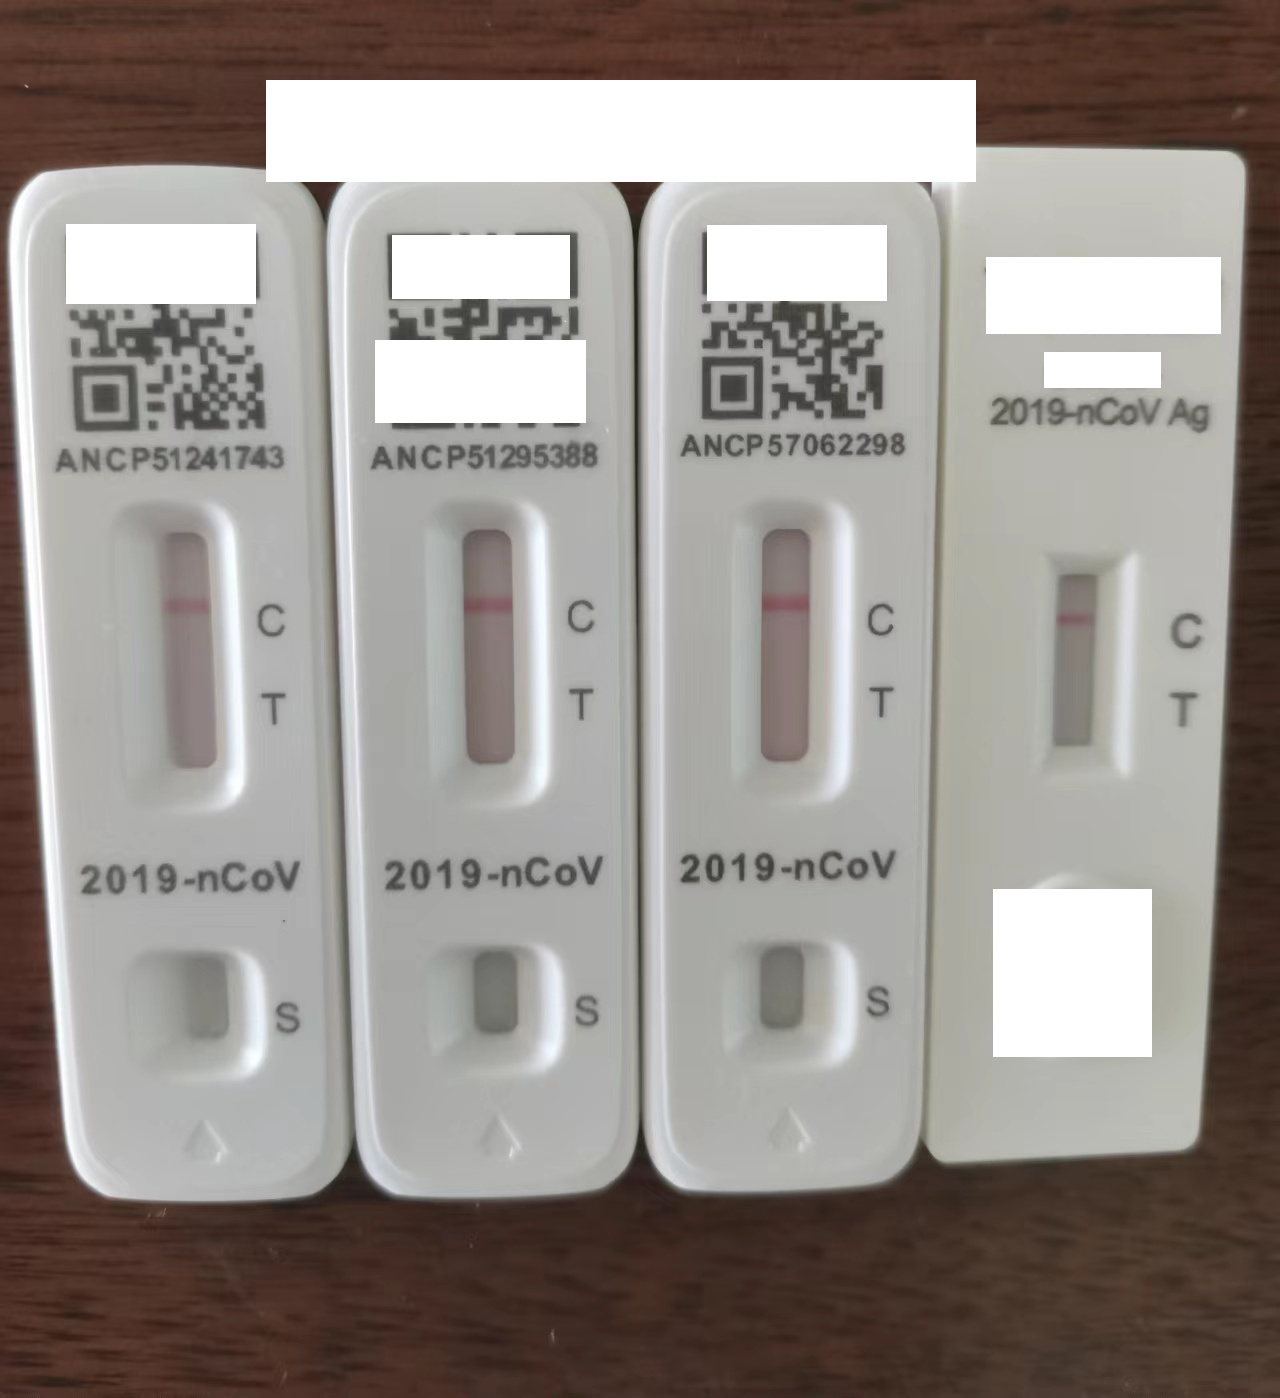negative: (111, 504, 242, 807), (730, 494, 850, 805), (427, 499, 548, 800), (1032, 547, 1131, 768)
